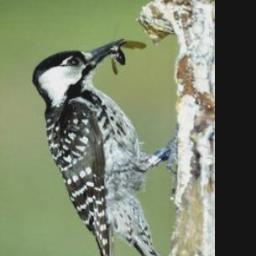Woodpecker: (30, 38, 170, 256)
